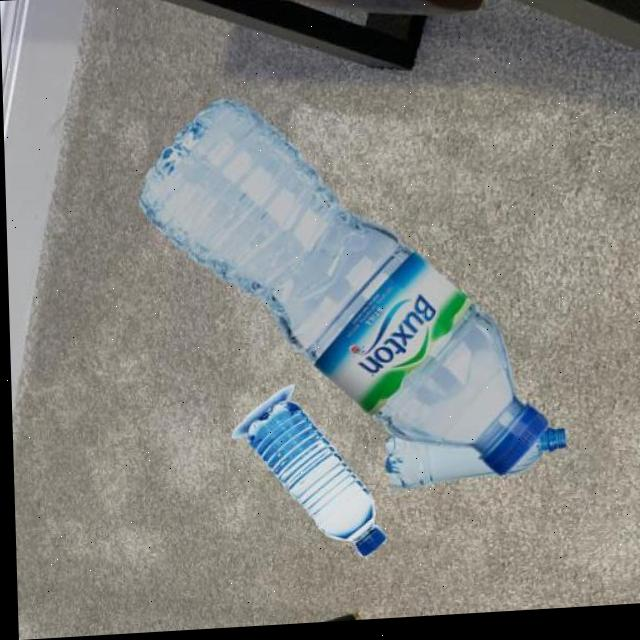bottle: (132, 85, 564, 508), (225, 383, 383, 569)
